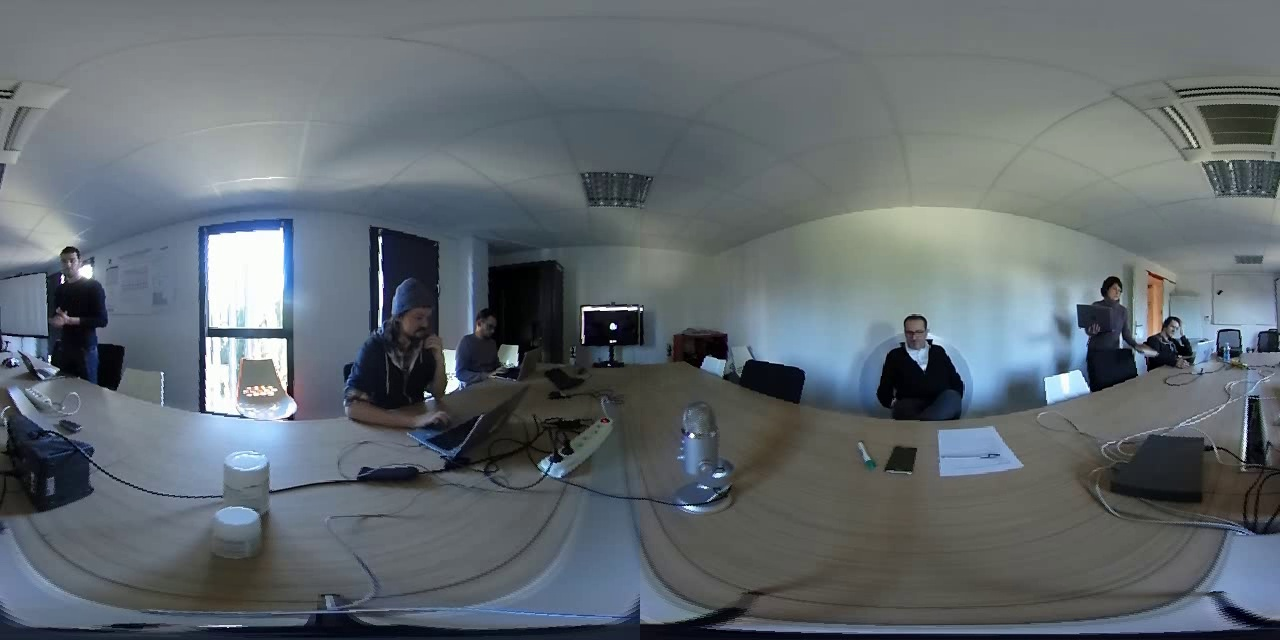person: (346, 273, 453, 429), (867, 289, 968, 427), (47, 231, 110, 380), (1074, 273, 1140, 376), (455, 300, 511, 382), (1146, 300, 1201, 374)
